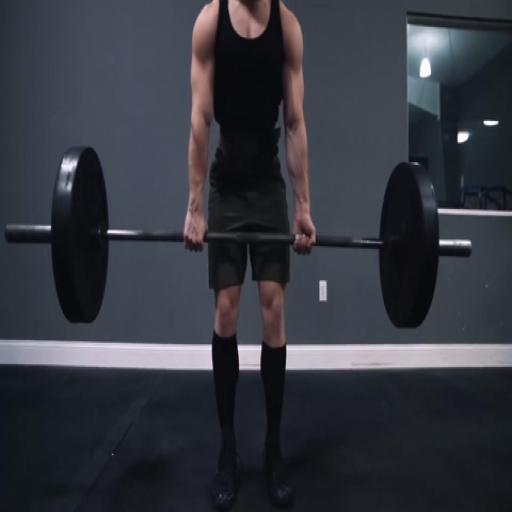exercise: (181, 0, 318, 511)
